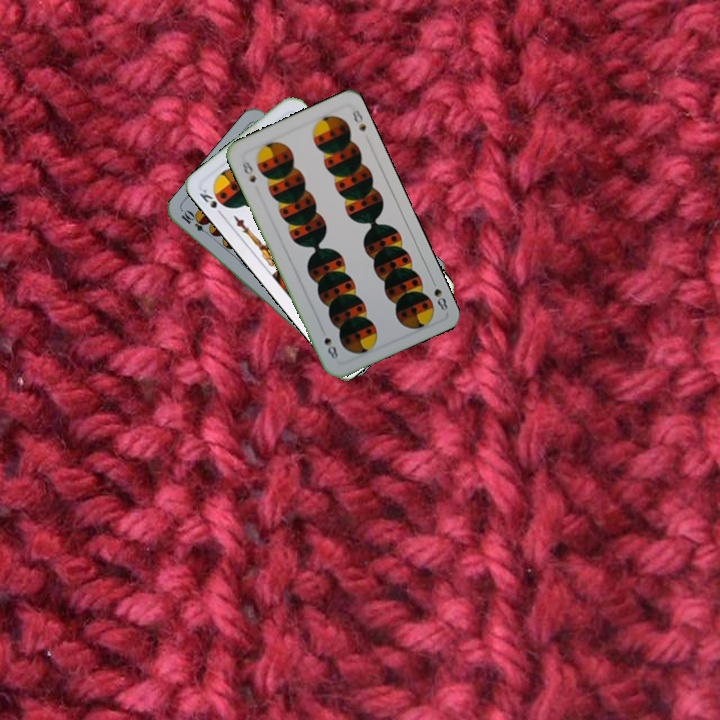E10: (177, 207, 214, 238)
S8: (427, 274, 451, 313), (238, 156, 259, 185)
SK: (195, 185, 226, 219)
